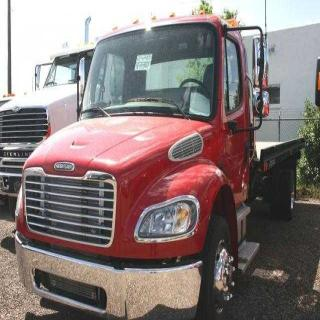Towing_truck: (12, 10, 305, 318)
